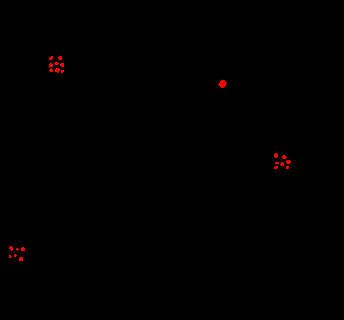Target: (218, 80, 227, 88), (55, 68, 60, 73), (274, 153, 278, 158), (282, 155, 287, 159), (286, 160, 291, 164), (9, 246, 13, 251), (49, 56, 53, 60), (58, 56, 62, 60), (49, 63, 53, 67), (60, 63, 64, 67), (49, 68, 53, 72), (280, 162, 284, 166), (21, 247, 25, 251), (19, 257, 23, 261), (54, 62, 59, 65), (274, 166, 278, 169), (61, 70, 64, 73), (286, 166, 289, 169), (16, 248, 19, 251), (14, 254, 17, 257), (9, 255, 12, 258), (275, 162, 279, 164)
